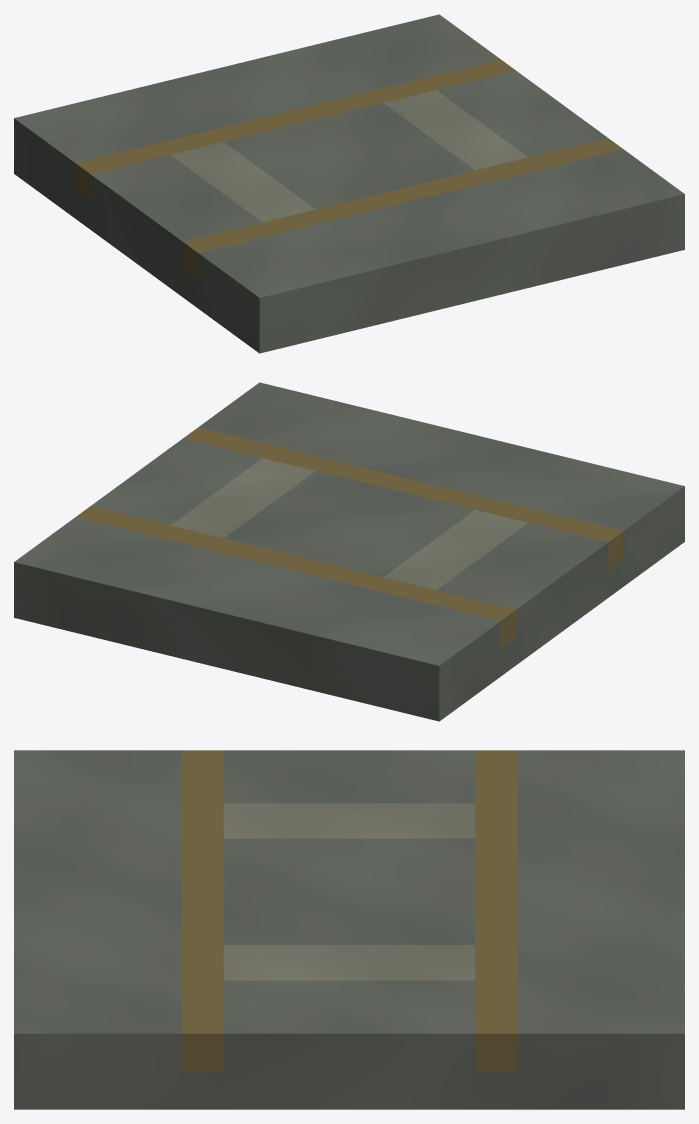
Rendered from FLOOR_INLAY_LINE.glb.
The picture shows the model from 3 angles, top to bottom: view 1: azimuth 30°, elevation 25°; view 2: azimuth 150°, elevation 25°; view 3: azimuth 270°, elevation 25°; orthographic projection. The views are drawn at different scales.
Parts seen in each view (by area): view 1: FLOOR_INLAY_LINE; view 2: FLOOR_INLAY_LINE; view 3: FLOOR_INLAY_LINE.
Part boxes in pixels (box(x1,y1,x2,y2)): FLOOR_INLAY_LINE: box(14, 14, 684, 353); FLOOR_INLAY_LINE: box(14, 382, 684, 721); FLOOR_INLAY_LINE: box(14, 750, 684, 1109).
Bounding box in the file's own units: 2 × 0.25 × 2.
3 materials, 2 textured.
